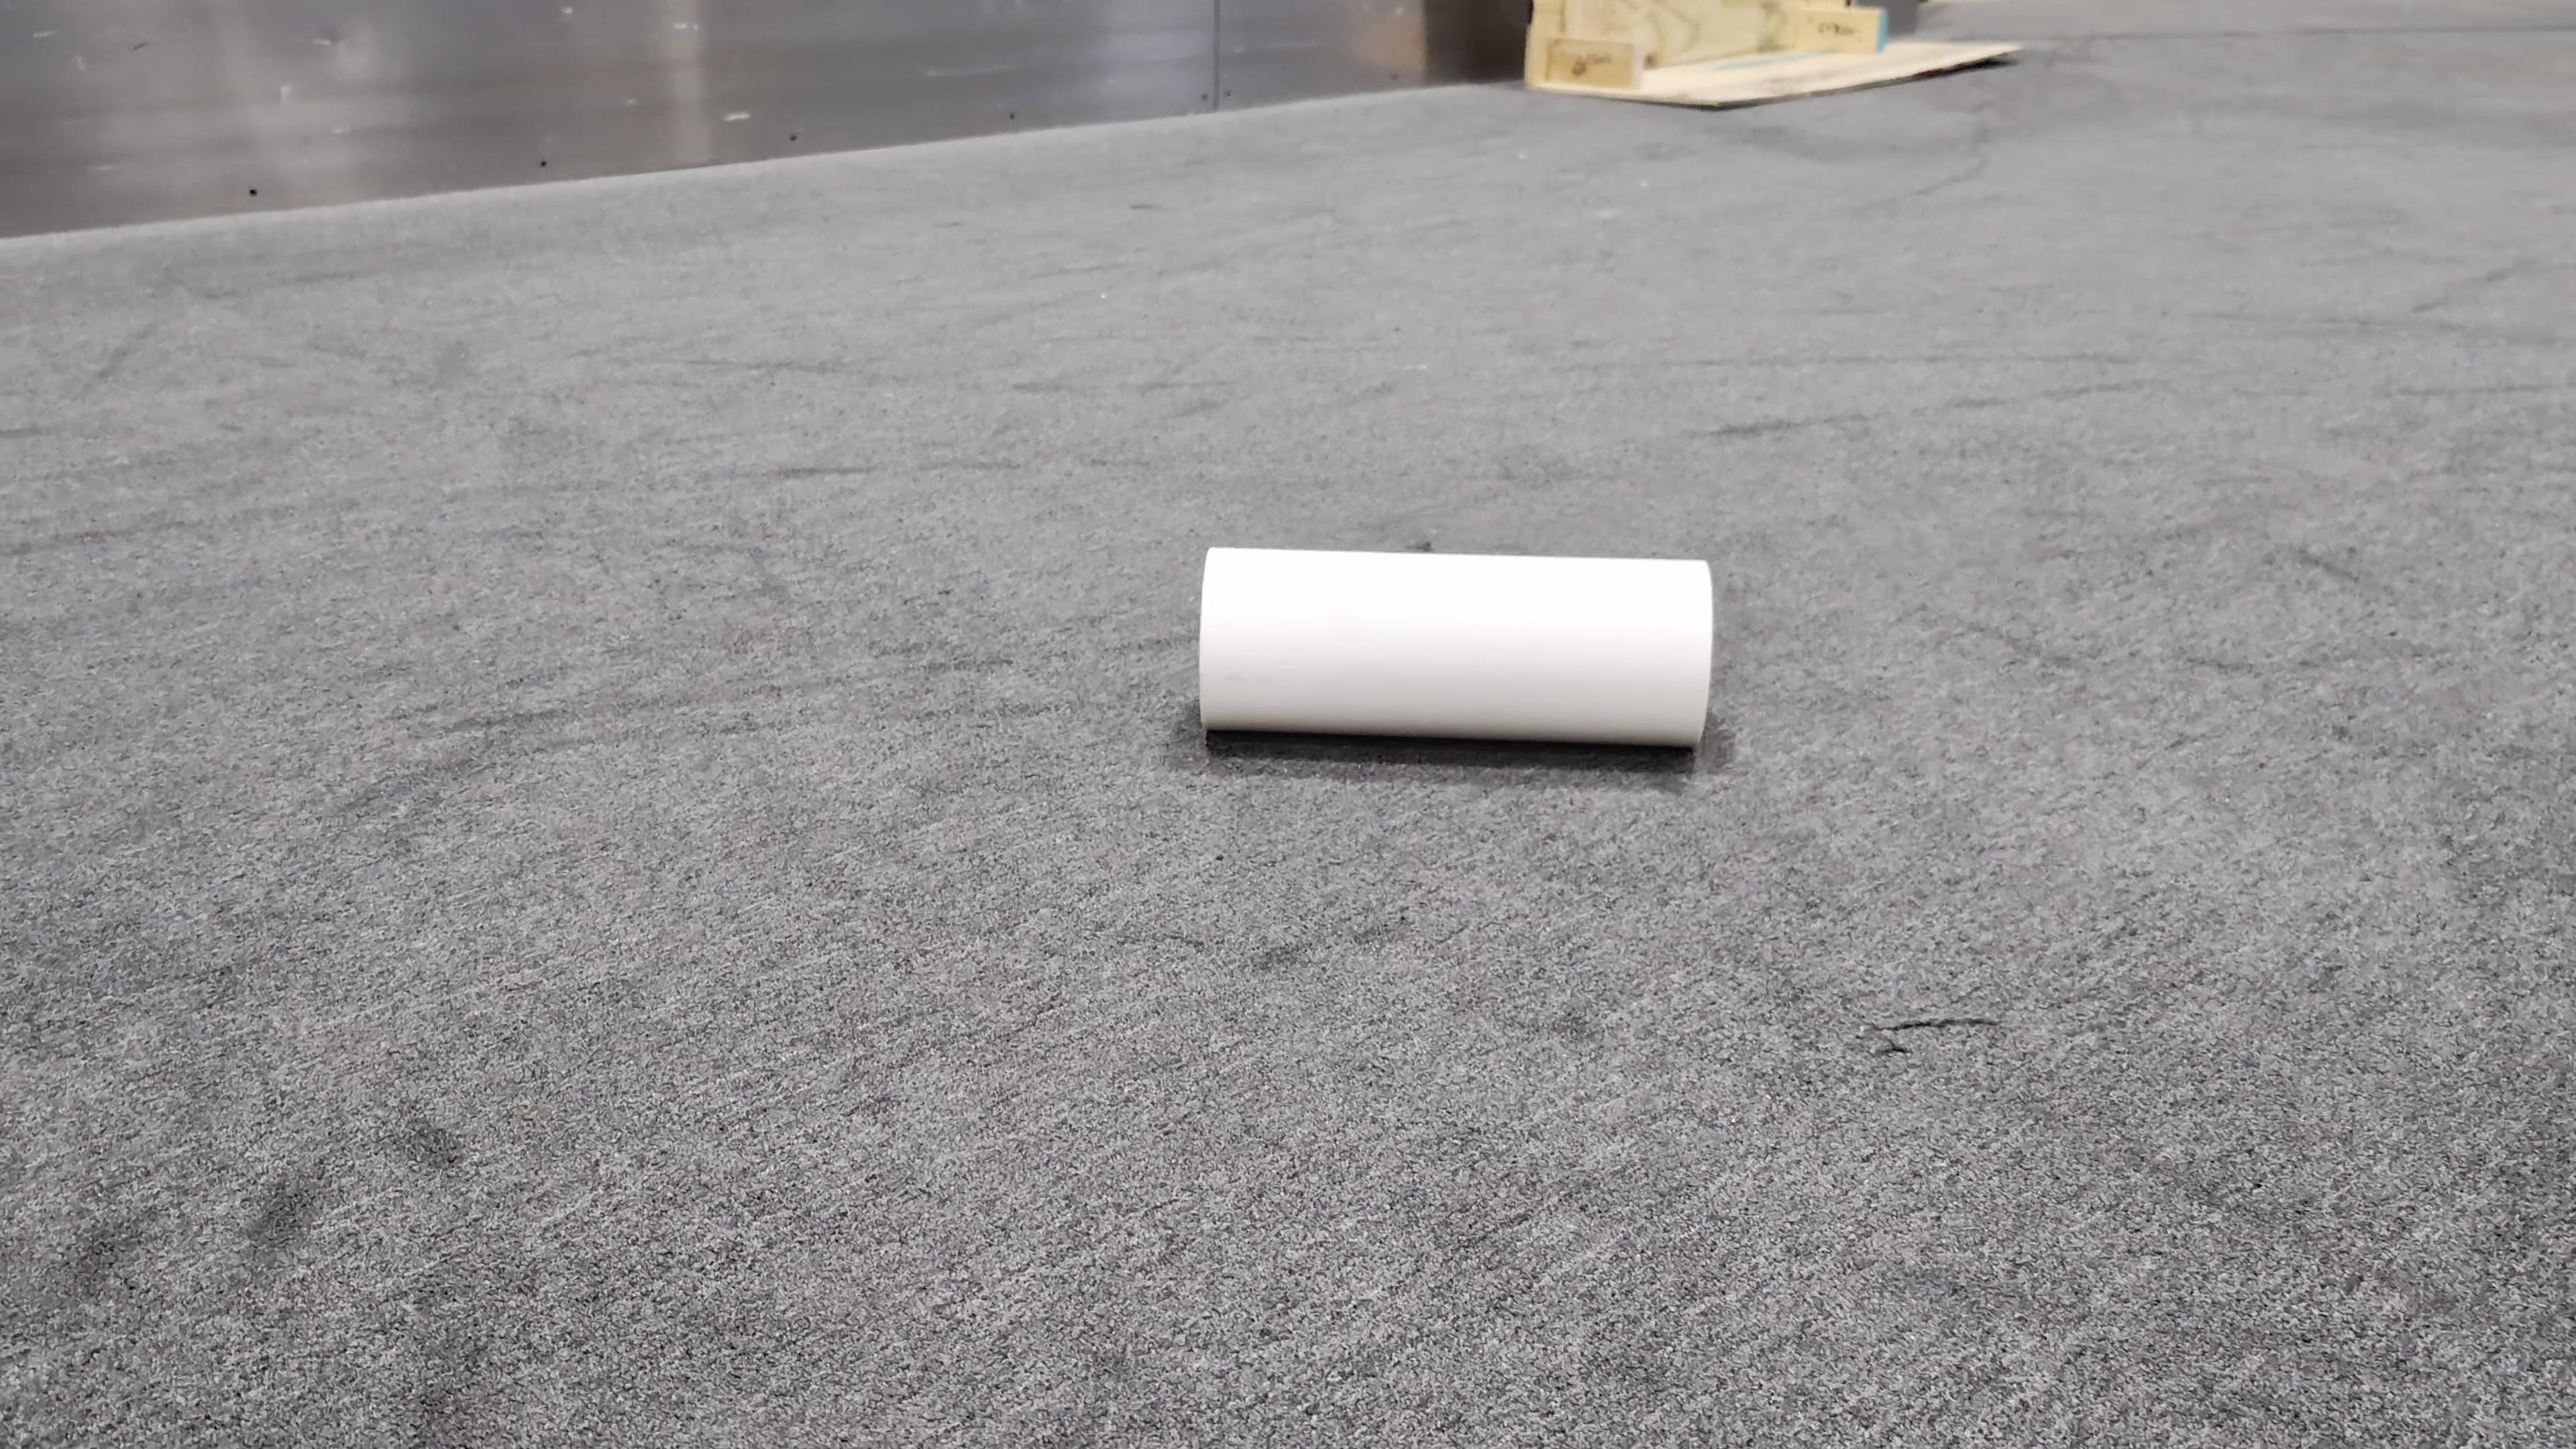coral: (1201, 547, 1713, 754)
